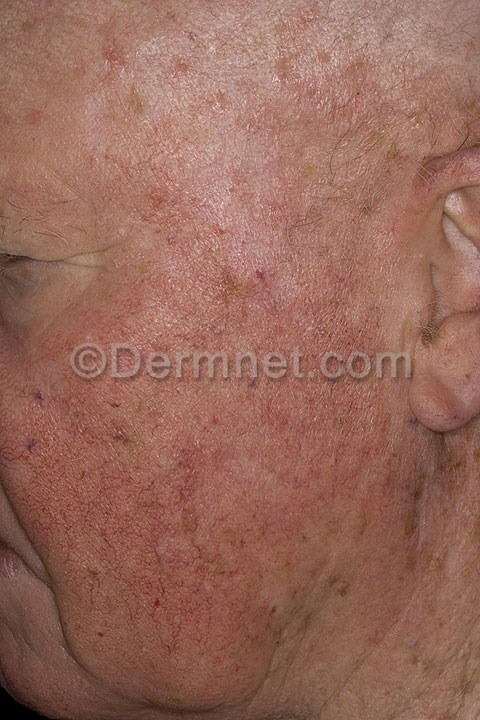Melasma: (6, 1, 480, 339), (6, 386, 480, 720)
